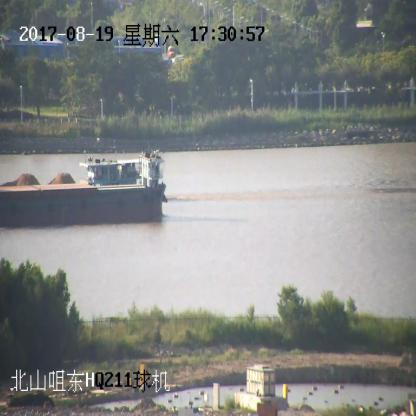Bulk Carrier: (0, 157, 166, 227)
